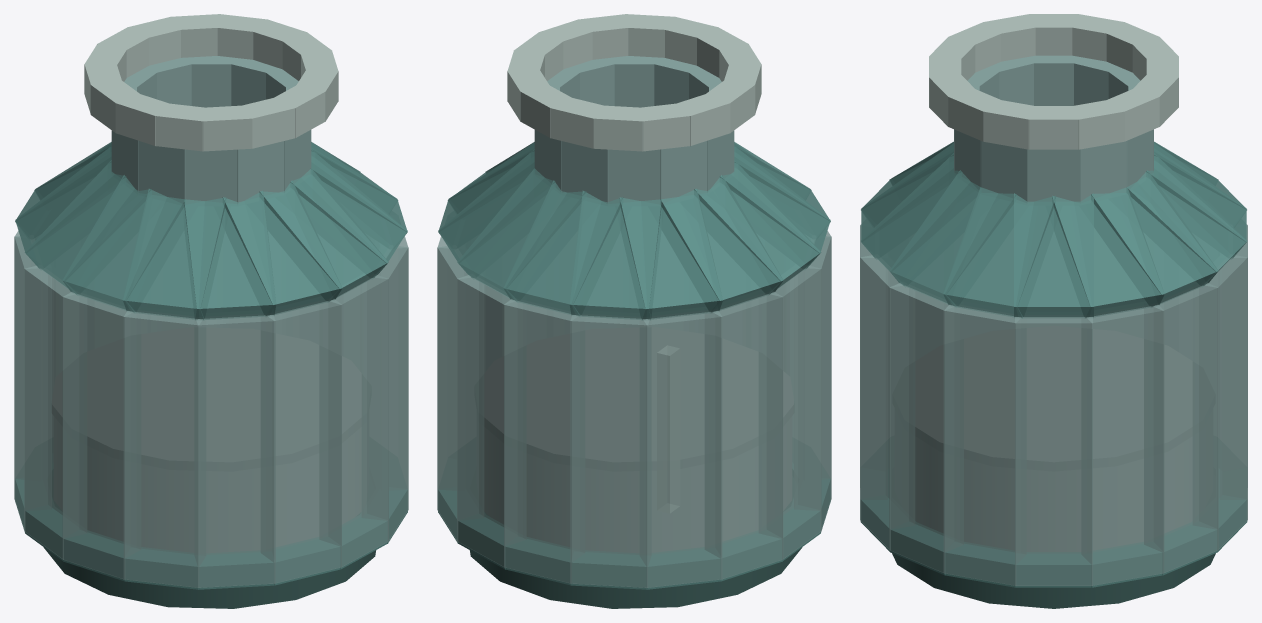
Rendered from CMU3DBottleFill2StudyCloud.glb.
3 renders of one model, left to right at view 1: azimuth 30°, elevation 25°; view 2: azimuth 150°, elevation 25°; view 3: azimuth 270°, elevation 25°, orthographic.
Parts seen in each view (by area): view 1: flat liquid meniscus, hollow bottle wall 11, hollow bottle wall 12, hollow bottle wall 13, hollow bottle wall 10, hollow bottle wall 14, static liquid volume level 2, hollow bottle wall 09, hollow bottle wall 15, inward glass shoulder 11, inward glass shoulder 13, inward glass shoulder 12 (+48 smaller); view 2: flat liquid meniscus, hollow bottle wall 07, hollow bottle wall 06, hollow bottle wall 05, hollow bottle wall 08, hollow bottle wall 04, hollow bottle wall 09, static liquid volume level 2, hollow bottle wall 03, inward glass shoulder 07, inward glass shoulder 05, inward glass shoulder 06 (+49 smaller); view 3: flat liquid meniscus, hollow bottle wall 02, hollow bottle wall 16, hollow bottle wall 01, hollow bottle wall 03, hollow bottle wall 15, static liquid volume level 2, hollow bottle wall 04, hollow bottle wall 14, inward glass shoulder 02, inward glass shoulder 16, inward glass shoulder 01 (+48 smaller).
Part boxes in pixels (bbox=[...]): flat liquid meniscus: bbox=[52, 327, 360, 470]; hollow bottle wall 11: bbox=[123, 310, 205, 587]; hollow bottle wall 12: bbox=[194, 314, 275, 587]; hollow bottle wall 13: bbox=[261, 299, 341, 583]; hollow bottle wall 10: bbox=[62, 292, 140, 579]; hollow bottle wall 14: bbox=[319, 275, 388, 567]; static liquid volume level 2: bbox=[54, 417, 360, 552]; hollow bottle wall 09: bbox=[24, 265, 86, 559]; hollow bottle wall 15: bbox=[362, 246, 408, 541]; inward glass shoulder 11: bbox=[123, 188, 226, 320]; inward glass shoulder 13: bbox=[222, 180, 342, 316]; inward glass shoulder 12: bbox=[184, 190, 276, 320]; flat liquid meniscus: bbox=[485, 327, 793, 470]; hollow bottle wall 07: bbox=[640, 310, 722, 587]; hollow bottle wall 06: bbox=[570, 314, 651, 587]; hollow bottle wall 05: bbox=[504, 299, 584, 583]; hollow bottle wall 08: bbox=[705, 292, 783, 579]; hollow bottle wall 04: bbox=[457, 275, 526, 567]; hollow bottle wall 09: bbox=[759, 265, 821, 559]; static liquid volume level 2: bbox=[485, 417, 791, 552]; hollow bottle wall 03: bbox=[437, 246, 483, 541]; inward glass shoulder 07: bbox=[619, 188, 722, 320]; inward glass shoulder 05: bbox=[503, 180, 623, 316]; inward glass shoulder 06: bbox=[569, 190, 661, 320]; flat liquid meniscus: bbox=[916, 326, 1191, 470]; hollow bottle wall 02: bbox=[1081, 305, 1164, 585]; hollow bottle wall 16: bbox=[943, 305, 1026, 585]; hollow bottle wall 01: bbox=[1015, 315, 1092, 585]; hollow bottle wall 03: bbox=[1144, 283, 1218, 573]; hollow bottle wall 15: bbox=[889, 283, 963, 573]; static liquid volume level 2: bbox=[916, 437, 1191, 551]; hollow bottle wall 04: bbox=[1193, 255, 1247, 550]; hollow bottle wall 14: bbox=[860, 255, 914, 550]; inward glass shoulder 02: bbox=[1052, 187, 1164, 318]; inward glass shoulder 16: bbox=[943, 187, 1055, 318]; inward glass shoulder 01: bbox=[1014, 193, 1093, 317].
Size of the model in its own units: 0.3384 by 0.453 by 0.3384.
